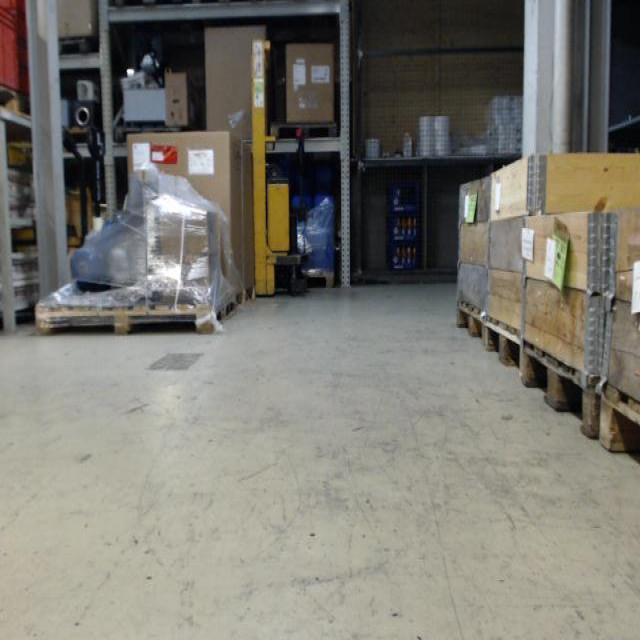pallet: (34, 293, 233, 336), (523, 341, 599, 447), (599, 377, 640, 466), (486, 312, 524, 385), (454, 300, 486, 345), (270, 120, 340, 140), (0, 83, 33, 124), (115, 125, 181, 145), (233, 282, 255, 319), (300, 269, 334, 290)
pallet_truck: (248, 39, 304, 306), (53, 110, 117, 241)
